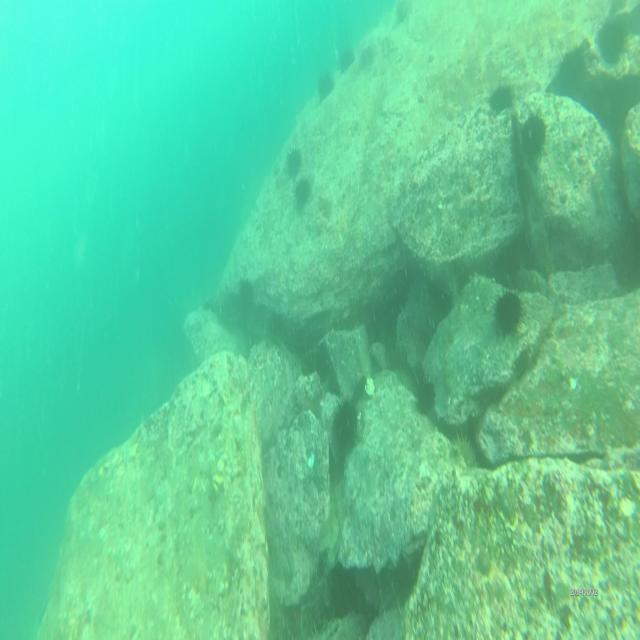echinus: (492, 288, 522, 330), (448, 432, 480, 470), (522, 114, 547, 156), (333, 400, 359, 437), (416, 377, 436, 417), (487, 80, 509, 115), (317, 68, 336, 96), (340, 45, 356, 78), (290, 183, 312, 206), (285, 151, 302, 176)
